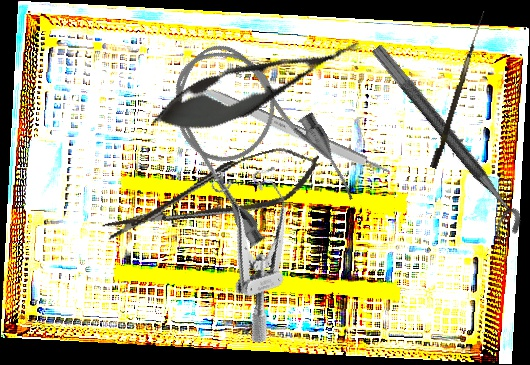Cannula: (147, 19, 364, 260)
Fixation Ring: (355, 43, 529, 245)
Hook Surgical: (429, 8, 486, 170)
Micro Scissor: (143, 19, 372, 149), (94, 137, 329, 253)
Scalpel Handle: (198, 83, 392, 181)
Speculum: (195, 150, 328, 345)
